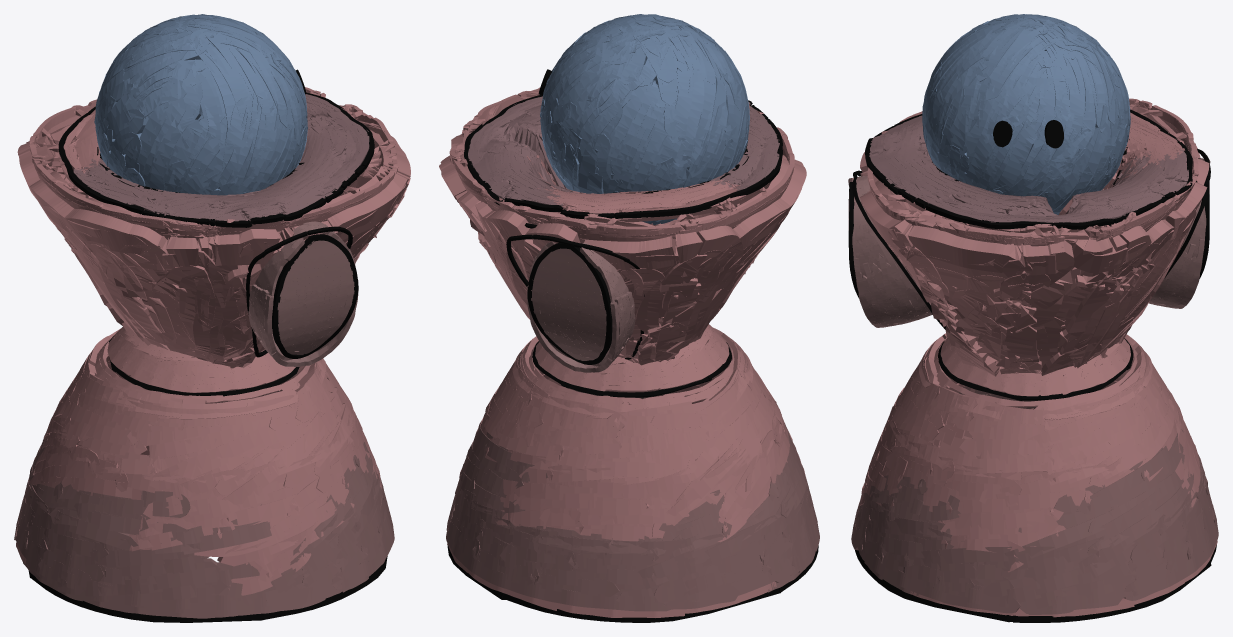
File: CharacterFull.glb
3 renders of one model, left to right at view 1: azimuth 30°, elevation 25°; view 2: azimuth 150°, elevation 25°; view 3: azimuth 270°, elevation 25°, orthographic. The views are drawn at different scales.
Visible parts, largest first — view 1: group_0, group_1; view 2: group_0, group_1; view 3: group_0, group_1.
Part boxes in pixels (<box>): group_0: <box>14,14,410,618</box>; group_1: <box>28,69,387,622</box>; group_0: <box>439,14,819,617</box>; group_1: <box>447,69,818,622</box>; group_0: <box>848,14,1218,617</box>; group_1: <box>848,109,1216,622</box>.
Size of the model in its own units: 2.02 by 3.01 by 1.95.
